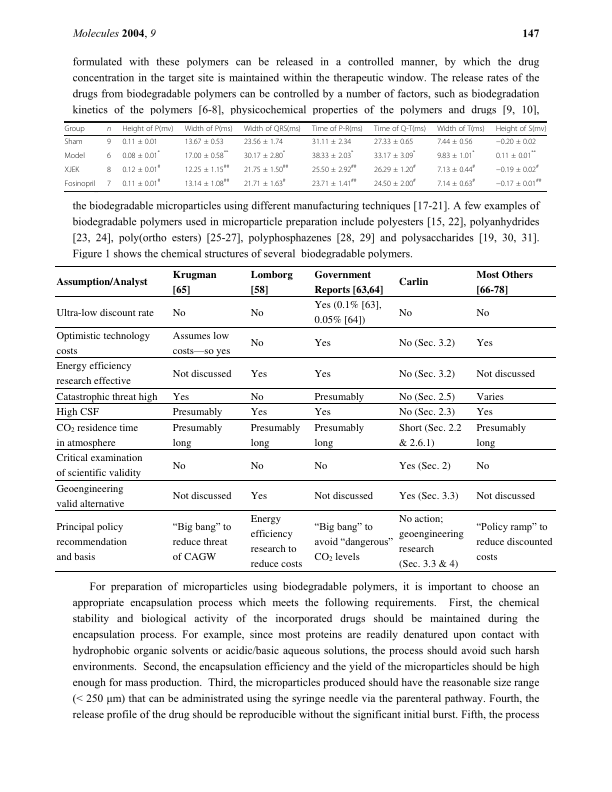borderless: (55, 264, 556, 571), (64, 120, 547, 191)
cell: (398, 512, 465, 571), (314, 518, 394, 564), (475, 518, 554, 563), (55, 520, 128, 563), (250, 512, 303, 571), (172, 518, 232, 563), (55, 329, 151, 357), (55, 451, 144, 480), (55, 421, 139, 449), (55, 359, 132, 388), (314, 267, 384, 296), (314, 298, 383, 327), (55, 482, 125, 510), (398, 421, 463, 449), (475, 267, 534, 296), (172, 329, 231, 358), (475, 421, 527, 449), (172, 421, 223, 449), (250, 421, 301, 449), (314, 421, 365, 449), (55, 390, 158, 403), (172, 267, 218, 296), (55, 275, 148, 289), (55, 306, 155, 319), (250, 267, 294, 296), (398, 489, 460, 503), (475, 489, 536, 503), (172, 489, 232, 503), (314, 489, 374, 503), (398, 336, 456, 350), (398, 405, 456, 419), (475, 367, 536, 380), (172, 367, 232, 380), (398, 367, 456, 380), (398, 390, 456, 403), (172, 405, 223, 419), (398, 459, 452, 472), (314, 390, 365, 403), (55, 405, 100, 419), (243, 124, 302, 133), (495, 177, 542, 188), (184, 163, 230, 174), (243, 163, 289, 174), (311, 163, 357, 174), (184, 177, 230, 188), (311, 177, 357, 188), (184, 149, 229, 160), (495, 163, 540, 174), (373, 124, 427, 133), (373, 163, 417, 174), (243, 177, 287, 188), (373, 177, 417, 188), (121, 124, 174, 133), (311, 124, 364, 133), (243, 149, 286, 160), (311, 149, 354, 160), (373, 149, 416, 160), (495, 124, 547, 133), (495, 149, 537, 160), (436, 124, 486, 133), (184, 124, 233, 133), (121, 149, 161, 160), (436, 149, 476, 160), (121, 163, 161, 174), (436, 163, 476, 174), (121, 177, 161, 188), (436, 177, 476, 188), (398, 275, 429, 289), (475, 390, 505, 403), (495, 137, 537, 146), (184, 137, 225, 146), (243, 137, 284, 146), (311, 137, 352, 146), (373, 137, 414, 146), (121, 137, 159, 146), (436, 137, 473, 146), (64, 179, 96, 188), (475, 336, 494, 350), (475, 405, 494, 419), (314, 336, 332, 350), (250, 405, 268, 419), (314, 405, 332, 419), (250, 489, 268, 503), (250, 367, 268, 380), (314, 367, 332, 380), (172, 390, 190, 403), (250, 336, 265, 350), (64, 151, 86, 160), (172, 306, 187, 319), (250, 306, 265, 319), (398, 306, 413, 319), (475, 306, 490, 319), (250, 390, 265, 403), (172, 459, 187, 472), (250, 459, 265, 472), (475, 459, 490, 472), (64, 124, 85, 133), (314, 459, 328, 472), (64, 137, 83, 146), (64, 165, 80, 174), (106, 137, 112, 146), (106, 151, 112, 160), (106, 165, 112, 174), (106, 179, 112, 188), (106, 126, 112, 132)
